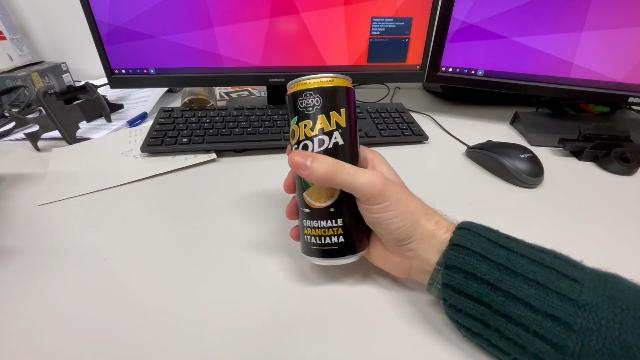OranSoda: (284, 70, 370, 268)
